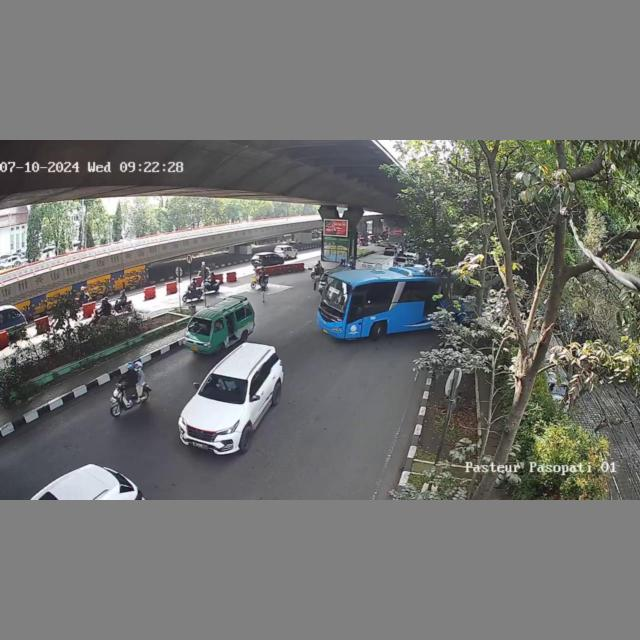windshield: (198, 374, 252, 401), (186, 318, 213, 334)
